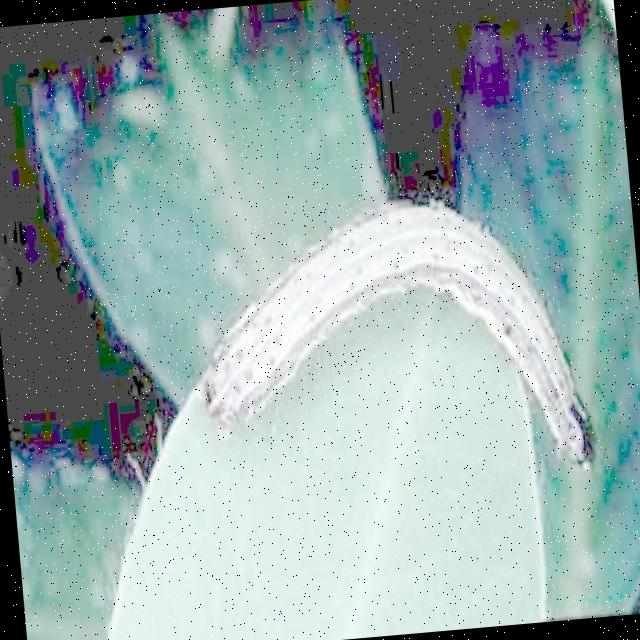worm: (186, 184, 598, 500)
